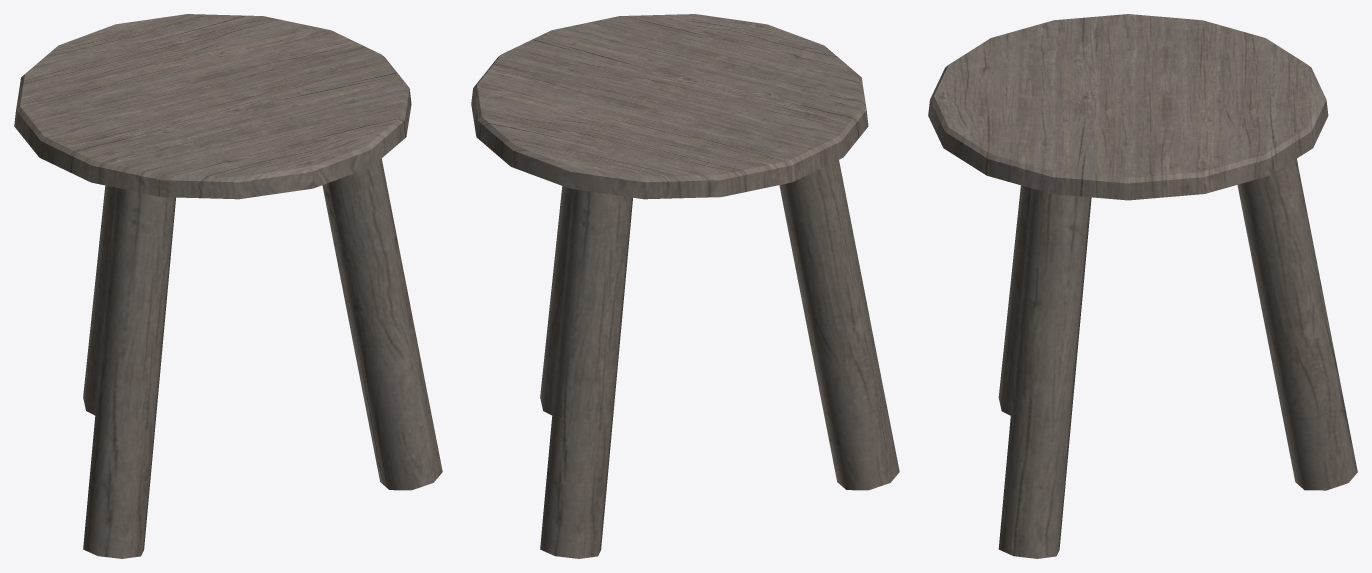
Rendered from Stool.fbx.
The picture shows the model from 3 angles, left to right: view 1: azimuth 30°, elevation 25°; view 2: azimuth 150°, elevation 25°; view 3: azimuth 270°, elevation 25°; orthographic projection.
Parts seen in each view (by area): view 1: stool2; view 2: stool2; view 3: stool2.
Boxes of the visible parts, x1,y1,x2,y2 form: stool2: [14, 14, 442, 558]; stool2: [471, 14, 899, 558]; stool2: [928, 14, 1357, 558].
Bounding box in the file's own units: 0.7948 × 0.8376 × 0.8451.
Materials: 1 (1 with a texture image).
